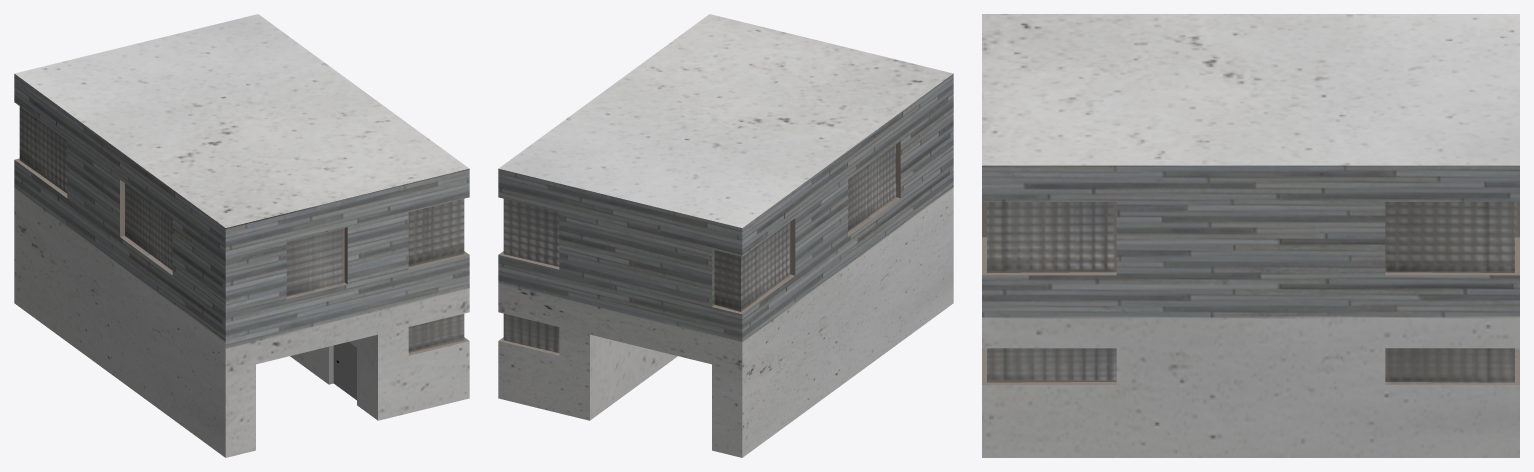
Rendered from City_Store.FBX.
The picture shows the model from 3 angles, left to right: view 1: azimuth 30°, elevation 25°; view 2: azimuth 150°, elevation 25°; view 3: azimuth 270°, elevation 25°; orthographic projection. The views are drawn at different scales.
Visible parts, largest first — view 1: Box001; view 2: Box001; view 3: Box001.
Part boxes in pixels (bbox=[...]): Box001: bbox=[14, 14, 469, 457]; Box001: bbox=[498, 14, 953, 457]; Box001: bbox=[982, 14, 1519, 457].
Size of the model in its own units: 1000 by 900 by 1500.
Materials: 1 (1 with a texture image).
